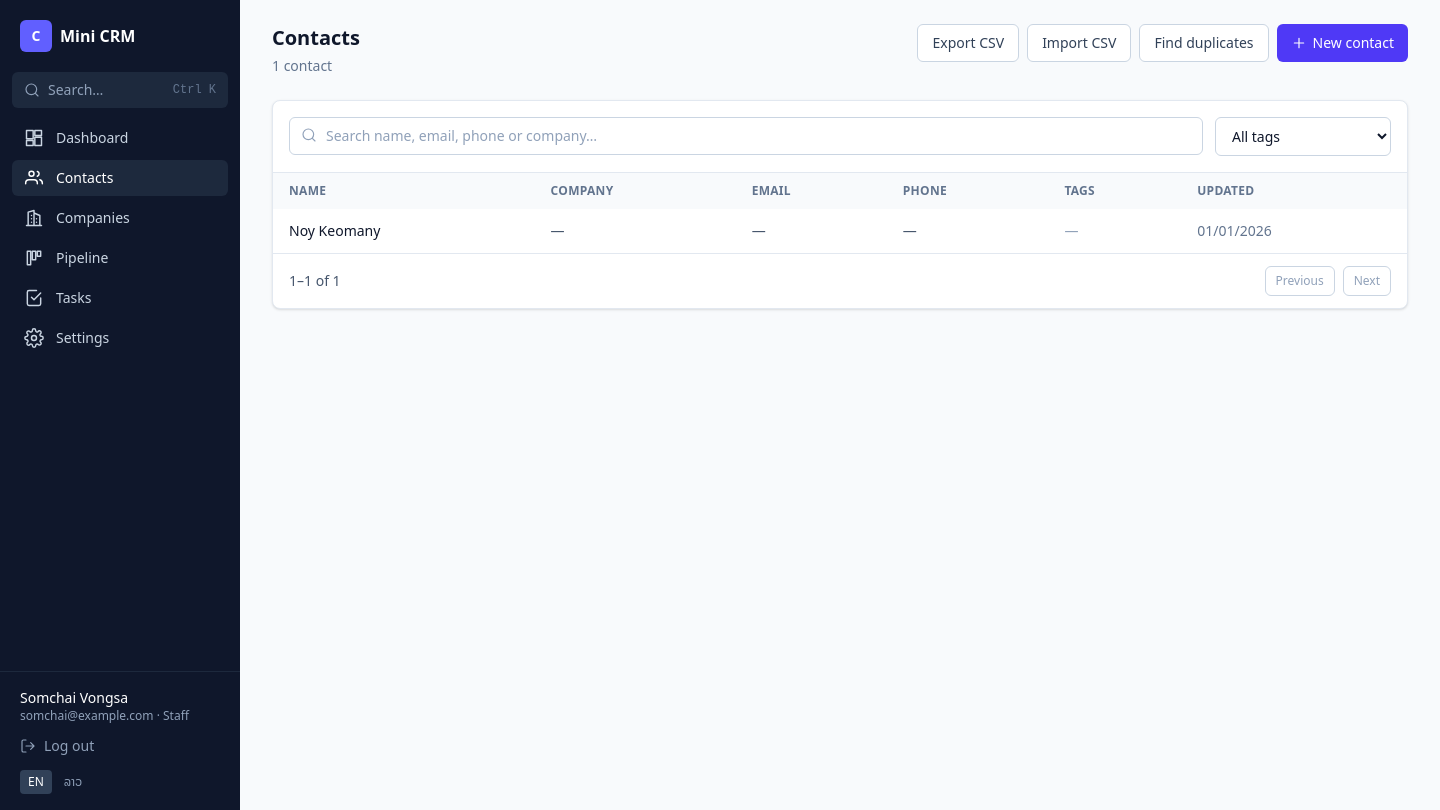
contacts search › does not pull the user back to the list after they open a contact
The width and height of the screenshot is (1440, 810).
Note: type, and open the contact before the 300 ms search delay has passed
In the field named "Search contacts": (746, 136) [289,117,1203,155], type "No"
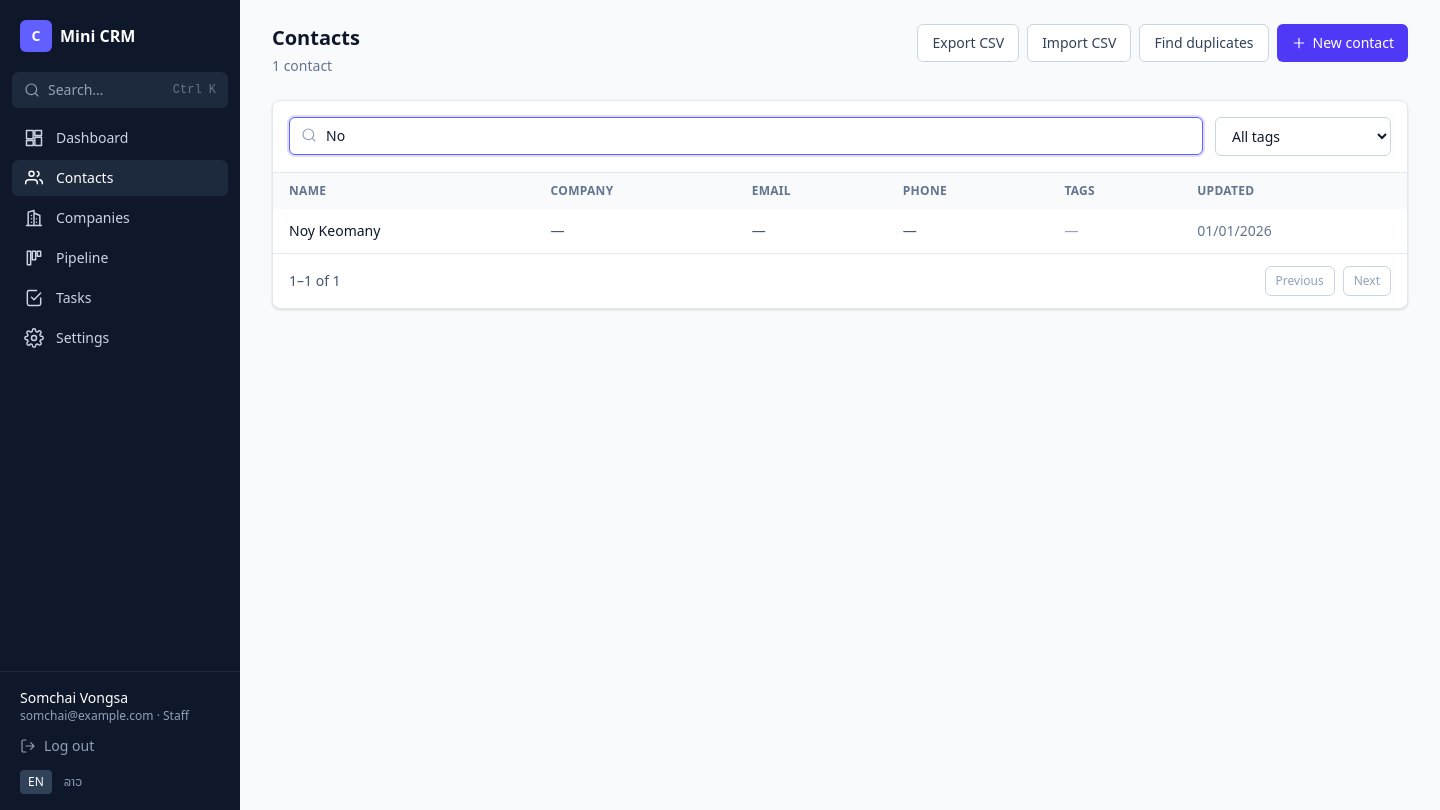
Click the link "Noy Keomany": (335, 230) [289,219,380,242]
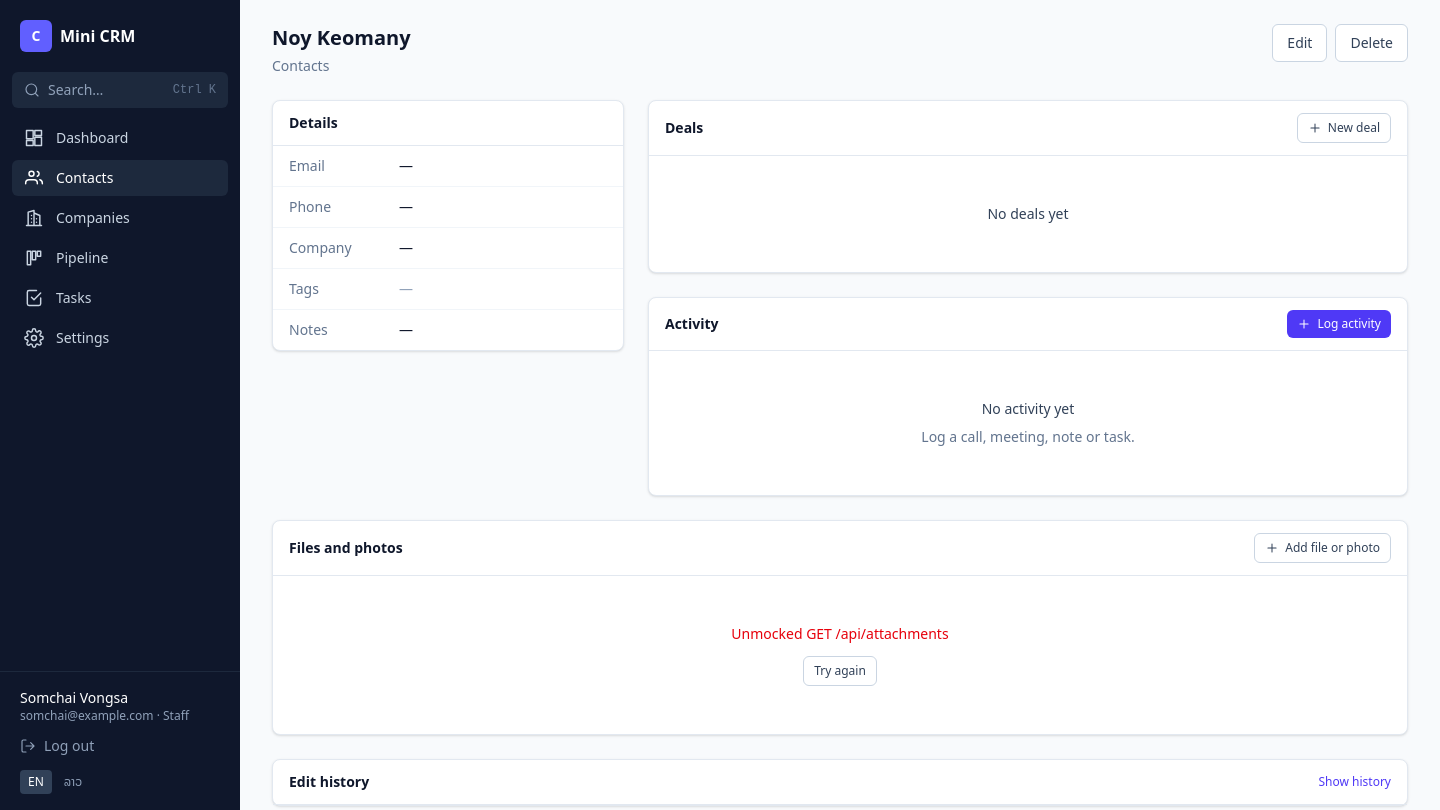
Check: the heading "Noy Keomany" is shown, box [272,24,410,52]
